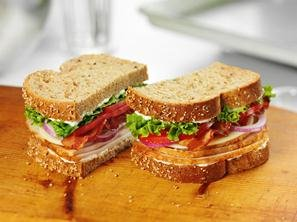soup: (21, 51, 150, 208), (125, 61, 274, 194), (21, 52, 151, 154)
